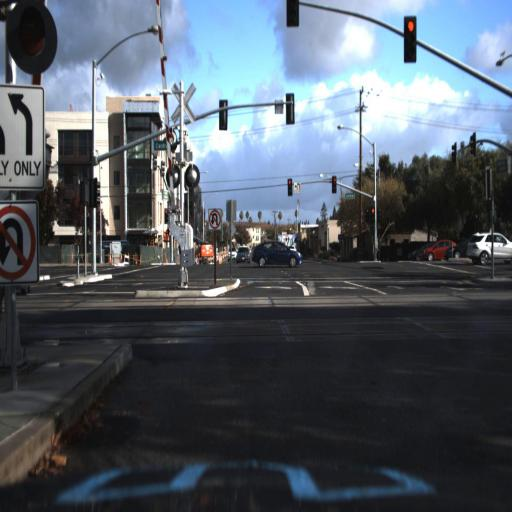car: (247, 238, 309, 273), (445, 234, 498, 264), (423, 236, 460, 264), (442, 236, 468, 260), (426, 234, 445, 264), (234, 245, 252, 270), (225, 245, 236, 269)
trafficLight: (6, 0, 56, 73), (285, 0, 300, 27)
trafficLight-Red: (402, 13, 418, 68), (330, 169, 338, 198), (369, 199, 377, 225), (285, 174, 293, 199)
